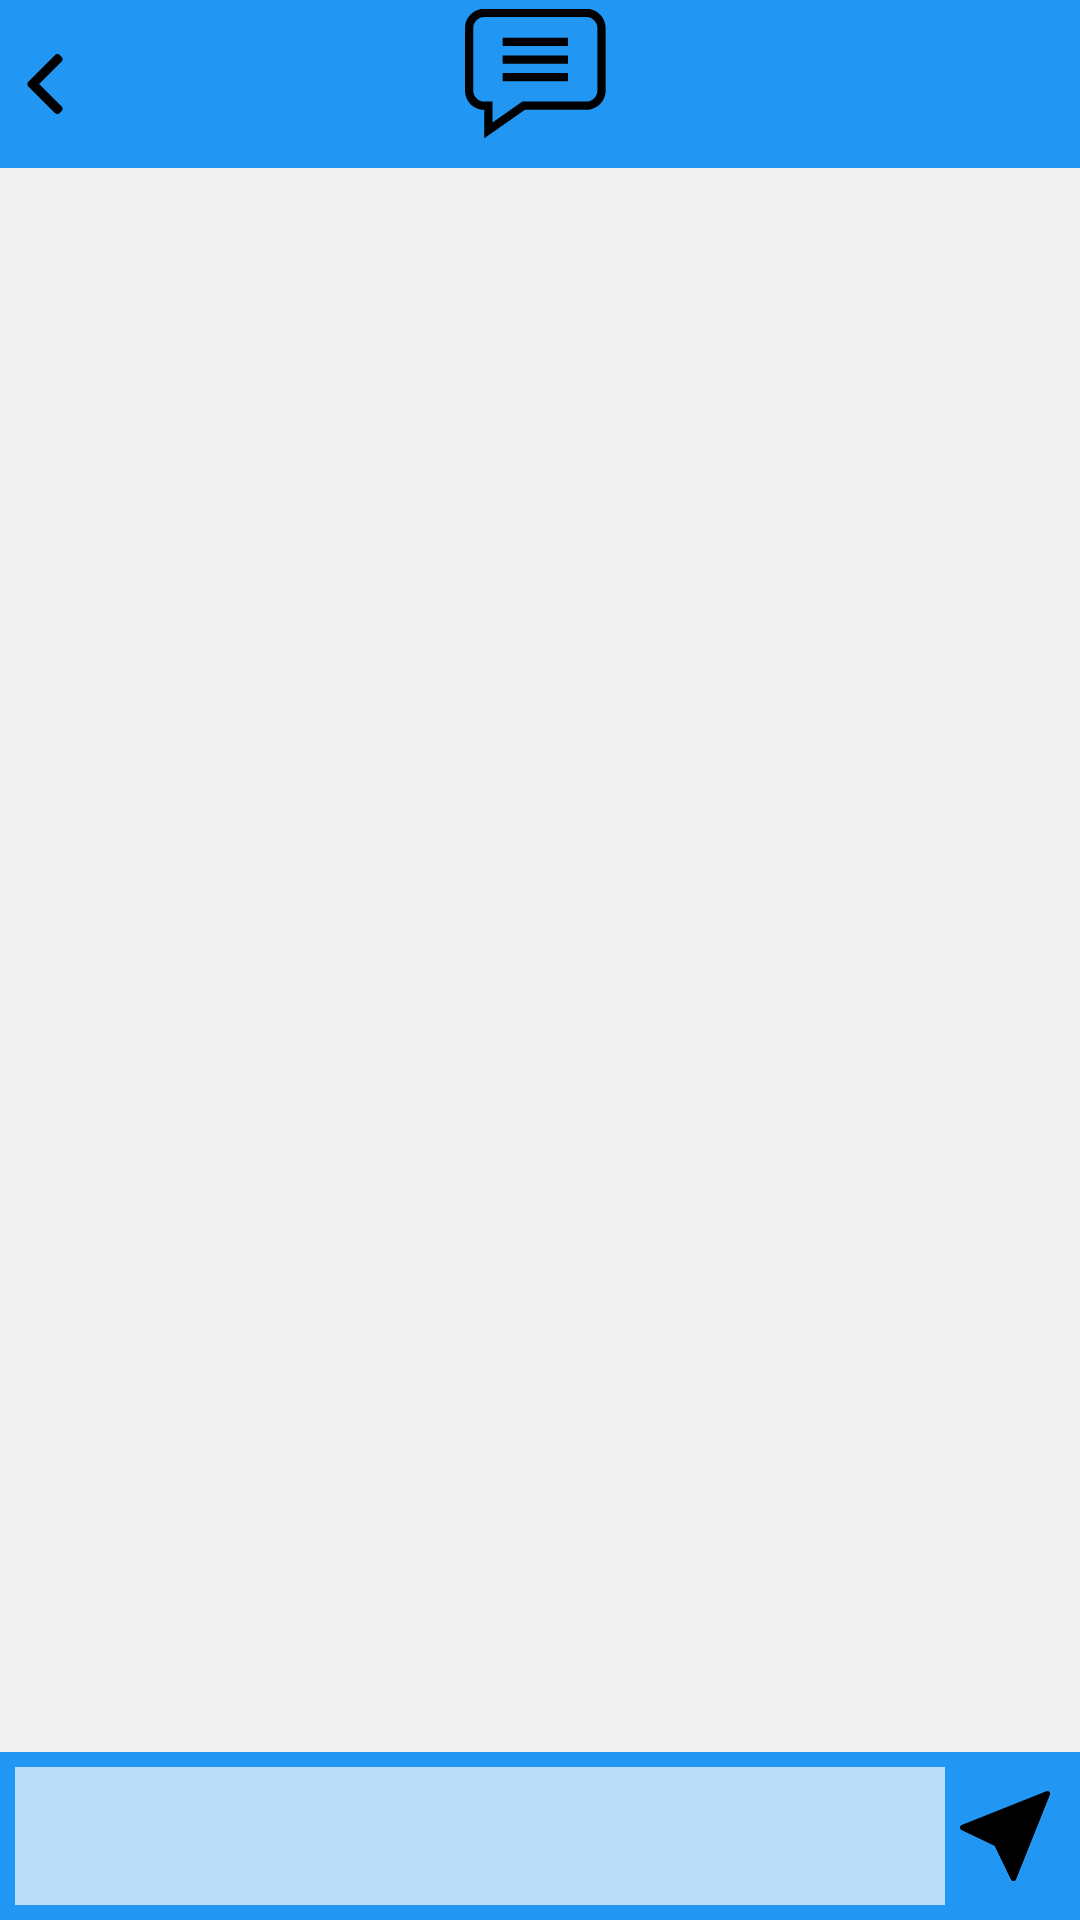

Screen size 1080px×1920px. Icon name, then its center in pixels as (x,y):
return btn: (45,84)
Send button: (1005,1836)
